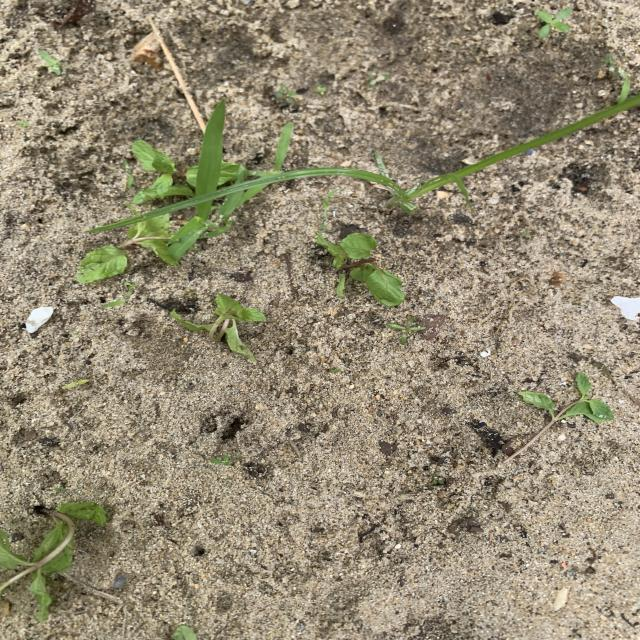crop: (0, 503, 107, 620), (509, 372, 614, 458), (75, 214, 178, 284), (316, 233, 405, 307), (170, 294, 265, 362), (132, 140, 199, 205), (216, 162, 245, 188)
weed: (89, 94, 640, 232), (168, 100, 243, 260), (250, 122, 293, 177), (535, 4, 573, 41), (604, 53, 632, 102), (386, 316, 425, 345), (316, 190, 335, 233), (39, 50, 63, 76), (104, 287, 135, 307), (274, 84, 298, 107), (121, 159, 138, 190), (210, 455, 240, 466), (62, 379, 89, 389), (16, 118, 31, 127), (55, 484, 67, 493), (314, 86, 326, 95), (329, 368, 342, 374)
